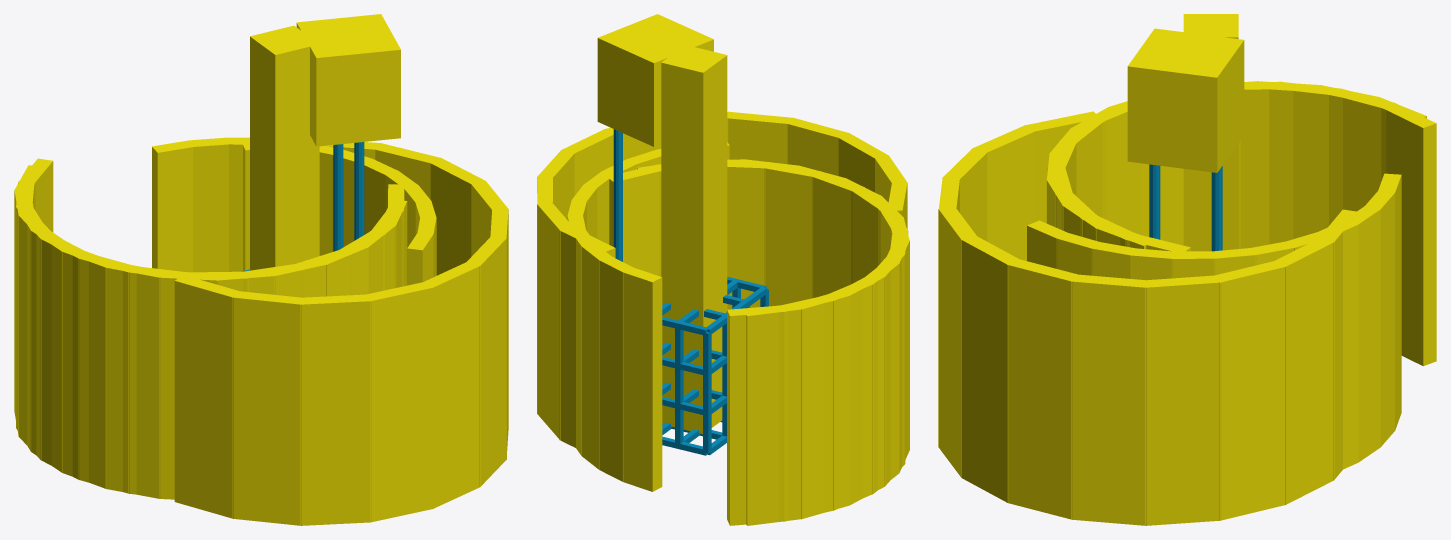
The model's file is folie_tag_014.glb.
3 renders of one model, left to right at view 1: azimuth 30°, elevation 25°; view 2: azimuth 150°, elevation 25°; view 3: azimuth 270°, elevation 25°, orthographic. The views are drawn at different scales.
Visible parts, largest first — view 1: folie_tag_014_03_curve, folie_tag_014_00_curve, folie_tag_014_02_curve, folie_tag_014_01_curve, folie_tag_014_core, folie_tag_014_05_block, folie_tag_014_line; view 2: folie_tag_014_01_curve, folie_tag_014_02_curve, folie_tag_014_03_curve, folie_tag_014_core, folie_tag_014_00_curve, folie_tag_014_05_block, folie_tag_014_04_cage, folie_tag_014_line; view 3: folie_tag_014_03_curve, folie_tag_014_00_curve, folie_tag_014_02_curve, folie_tag_014_01_curve, folie_tag_014_05_block, folie_tag_014_core, folie_tag_014_line.
Part boxes in pixels (box(x1,y1,x2,y2)): folie_tag_014_03_curve: box(174, 142, 508, 525); folie_tag_014_00_curve: box(16, 158, 407, 499); folie_tag_014_02_curve: box(152, 137, 436, 285); folie_tag_014_01_curve: box(14, 165, 404, 494); folie_tag_014_core: box(250, 25, 319, 270); folie_tag_014_05_block: box(296, 14, 400, 146); folie_tag_014_line: box(333, 142, 364, 251); folie_tag_014_01_curve: box(607, 162, 908, 525); folie_tag_014_02_curve: box(567, 142, 729, 491); folie_tag_014_03_curve: box(537, 111, 907, 447); folie_tag_014_core: box(661, 47, 727, 434); folie_tag_014_00_curve: box(637, 159, 909, 525); folie_tag_014_05_block: box(597, 14, 713, 146); folie_tag_014_04_cage: box(662, 276, 768, 455); folie_tag_014_line: box(613, 129, 622, 261); folie_tag_014_03_curve: box(938, 111, 1358, 525); folie_tag_014_00_curve: box(1046, 81, 1436, 366); folie_tag_014_02_curve: box(1027, 173, 1401, 469); folie_tag_014_01_curve: box(1047, 81, 1426, 253); folie_tag_014_05_block: box(1127, 28, 1244, 172); folie_tag_014_core: box(1183, 14, 1238, 251); folie_tag_014_line: box(1149, 164, 1222, 251).
Bounding box in the file's own units: 9.77 × 9.12 × 9.95.
